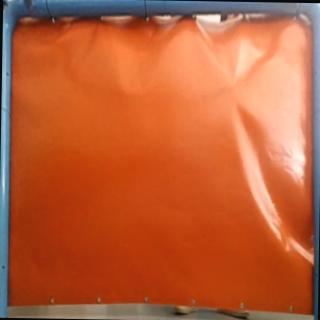Hit-hRxx: (226, 77, 240, 94)
